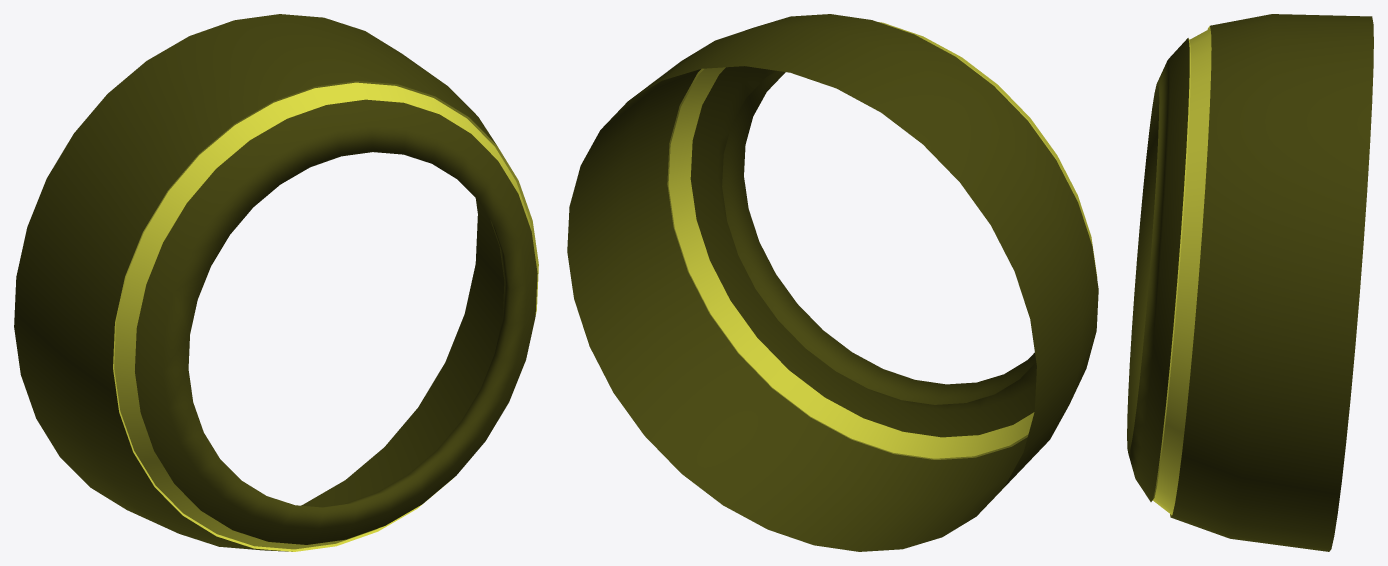
File: Parte_A.obj
The picture shows the model from 3 angles, left to right: view 1: azimuth 30°, elevation 25°; view 2: azimuth 150°, elevation 25°; view 3: azimuth 270°, elevation 25°; orthographic projection.
Visible parts, largest first — view 1: pasted__polySurface38 B17GREEN3:Mesh group1; view 2: pasted__polySurface38 B17GREEN3:Mesh group1; view 3: pasted__polySurface38 B17GREEN3:Mesh group1.
Part boxes in pixels (box(x1,y1,x2,y2)): pasted__polySurface38 B17GREEN3:Mesh group1: box(14, 14, 538, 551); pasted__polySurface38 B17GREEN3:Mesh group1: box(567, 14, 1098, 551); pasted__polySurface38 B17GREEN3:Mesh group1: box(1127, 14, 1373, 551).
Bounding box in the file's own units: 0.4495 × 0.4506 × 0.2064.
